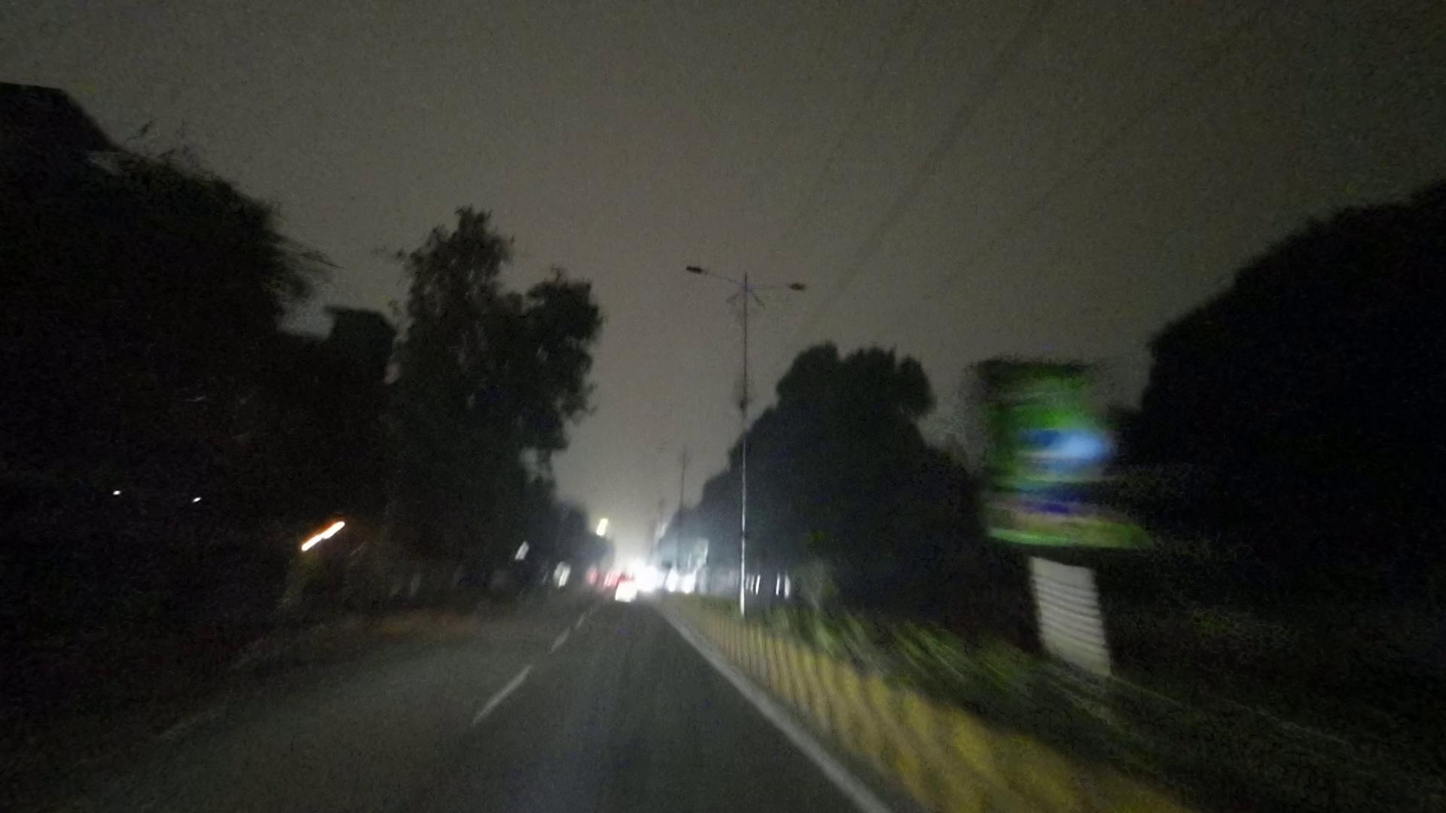streetlight: (683, 260, 742, 287), (753, 276, 809, 296)
